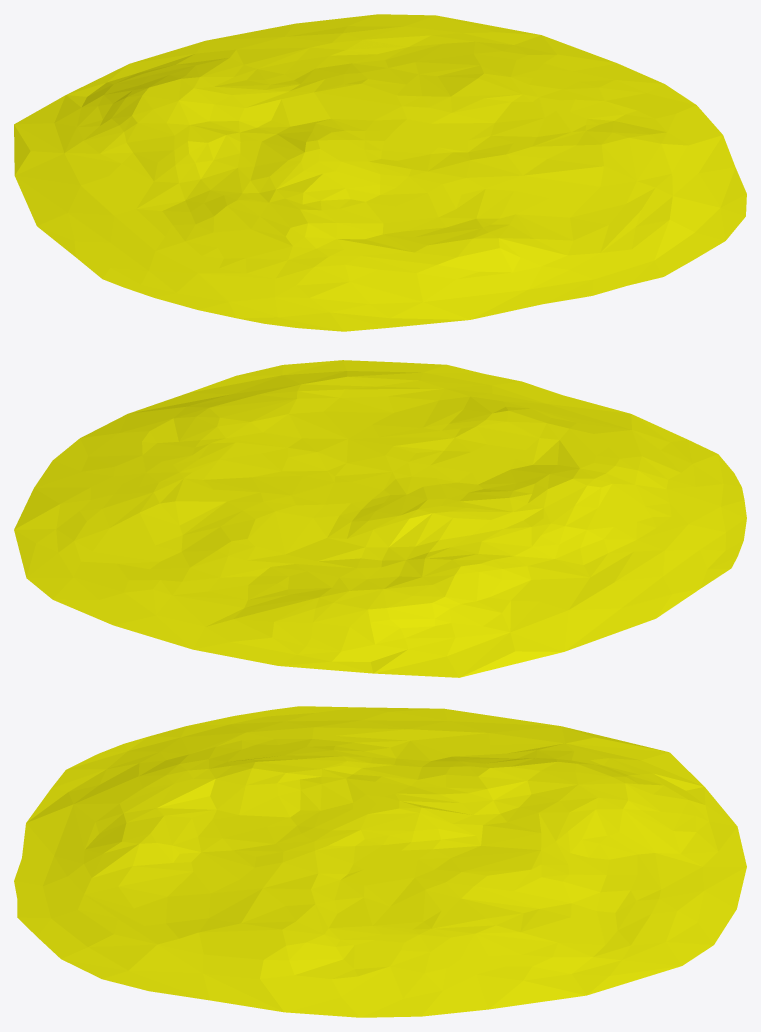
File: SM_Generic_Ground_03.glb
3 renders of one model, top to bottom at view 1: azimuth 30°, elevation 25°; view 2: azimuth 150°, elevation 25°; view 3: azimuth 270°, elevation 25°, orthographic. The views are drawn at different scales.
Visible parts, largest first — view 1: SM_Generic_Ground_03; view 2: SM_Generic_Ground_03; view 3: SM_Generic_Ground_03.
Boxes of the visible parts, x1,y1,x2,y2 form: SM_Generic_Ground_03: (14,14,746,331); SM_Generic_Ground_03: (14,360,746,677); SM_Generic_Ground_03: (14,706,746,1017).
Bounding box in the file's own units: 18.85 × 0.8615 × 18.74.
1 material, 1 textured.
